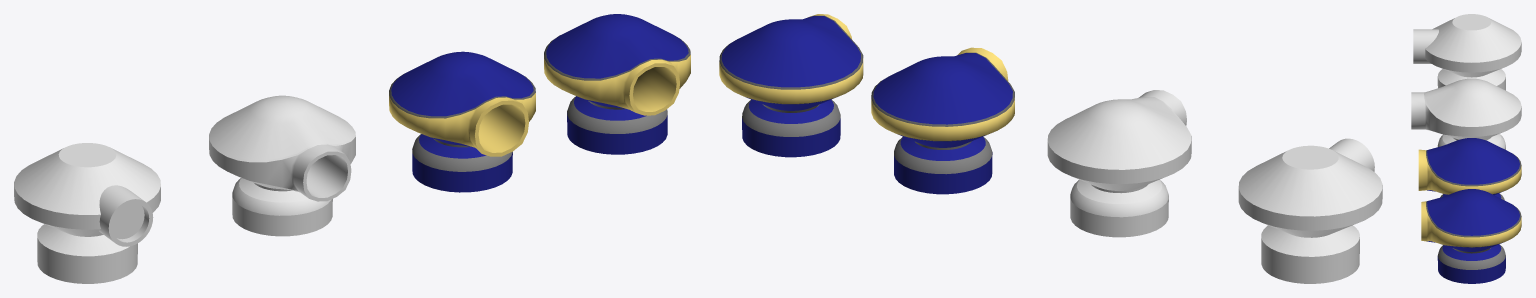
The model's file is mesh-cannon.fbx.
3 renders of one model, left to right at view 1: azimuth 30°, elevation 25°; view 2: azimuth 150°, elevation 25°; view 3: azimuth 270°, elevation 25°, orthographic. The views are drawn at different scales.
Parts seen in each view (by area): view 1: Circle.003, Circle.002, Circle, CannonTurret, CannonBase; view 2: Circle.003, Circle, Circle.002, CannonTurret, CannonBase; view 3: Circle.002, Circle.003, CannonTurret, Circle, CannonBase.
Boxes of the visible parts, box(x1,y1,x2,y2) form: Circle.003: box(209, 95, 355, 236); Circle.002: box(14, 143, 160, 283); Circle: box(389, 51, 535, 192); CannonTurret: box(544, 14, 690, 115); CannonBase: box(567, 96, 667, 154); Circle.003: box(1047, 90, 1191, 237); Circle: box(871, 47, 1014, 194); Circle.002: box(1238, 138, 1382, 283); CannonTurret: box(719, 14, 863, 112); CannonBase: box(742, 99, 840, 157); Circle.002: box(1413, 14, 1521, 90); Circle.003: box(1411, 78, 1521, 149); CannonTurret: box(1421, 189, 1521, 253); Circle: box(1418, 138, 1521, 200); CannonBase: box(1437, 244, 1505, 283).
Size of the model in its own units: 1510 by 249 by 324.
